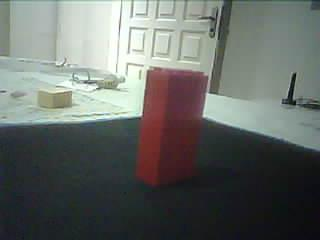lego: (134, 67, 209, 185), (36, 87, 73, 107)
